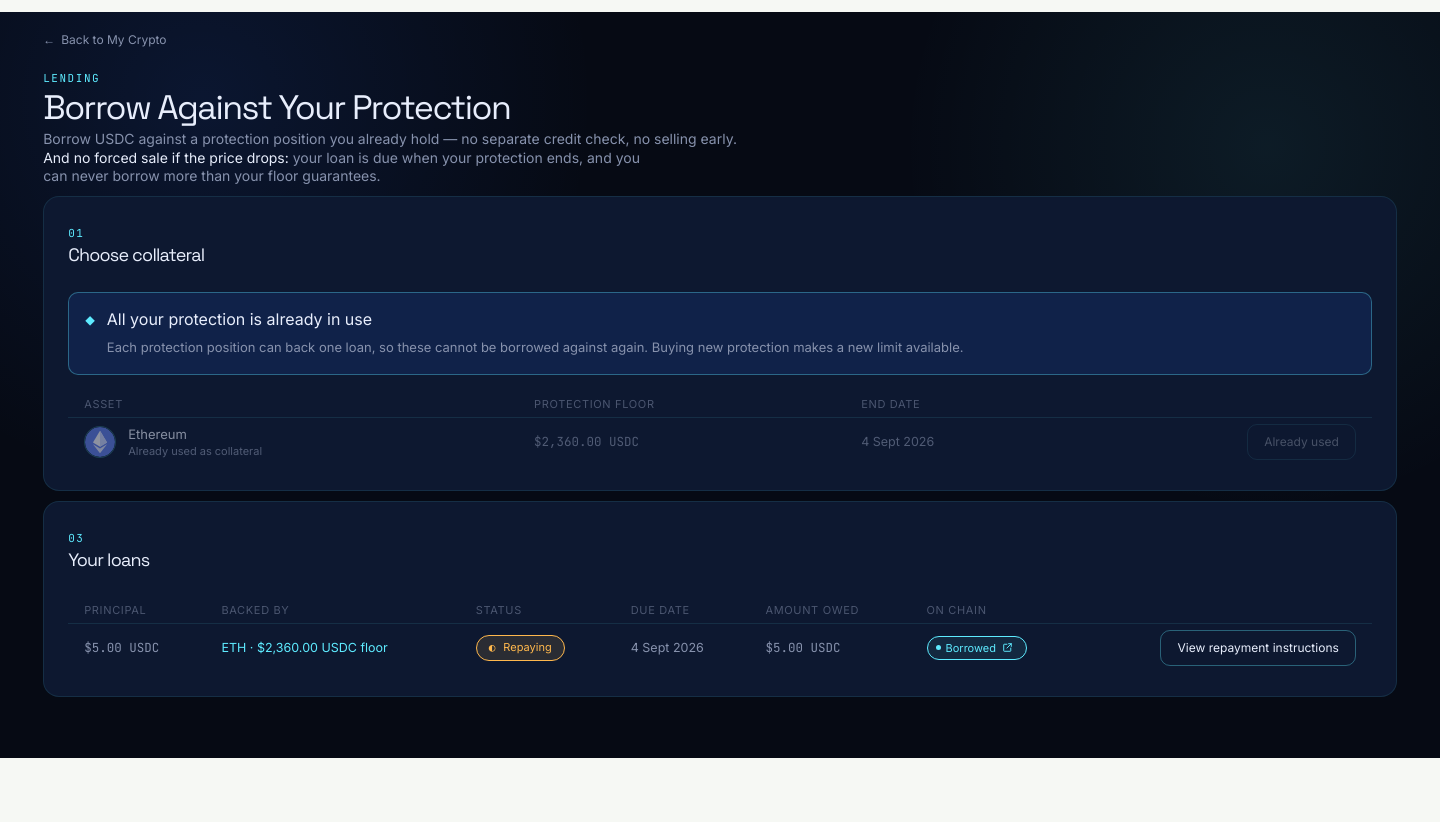
LendingPage › a repaying loan can recover its instruction after the page state is lost
The width and height of the screenshot is (1440, 822).
Expected: the text "Send exactly" is not shown
Click the button "View repayment instructions": {"x": 1258, "y": 648} [1160, 630, 1356, 666]
(page scrolled)
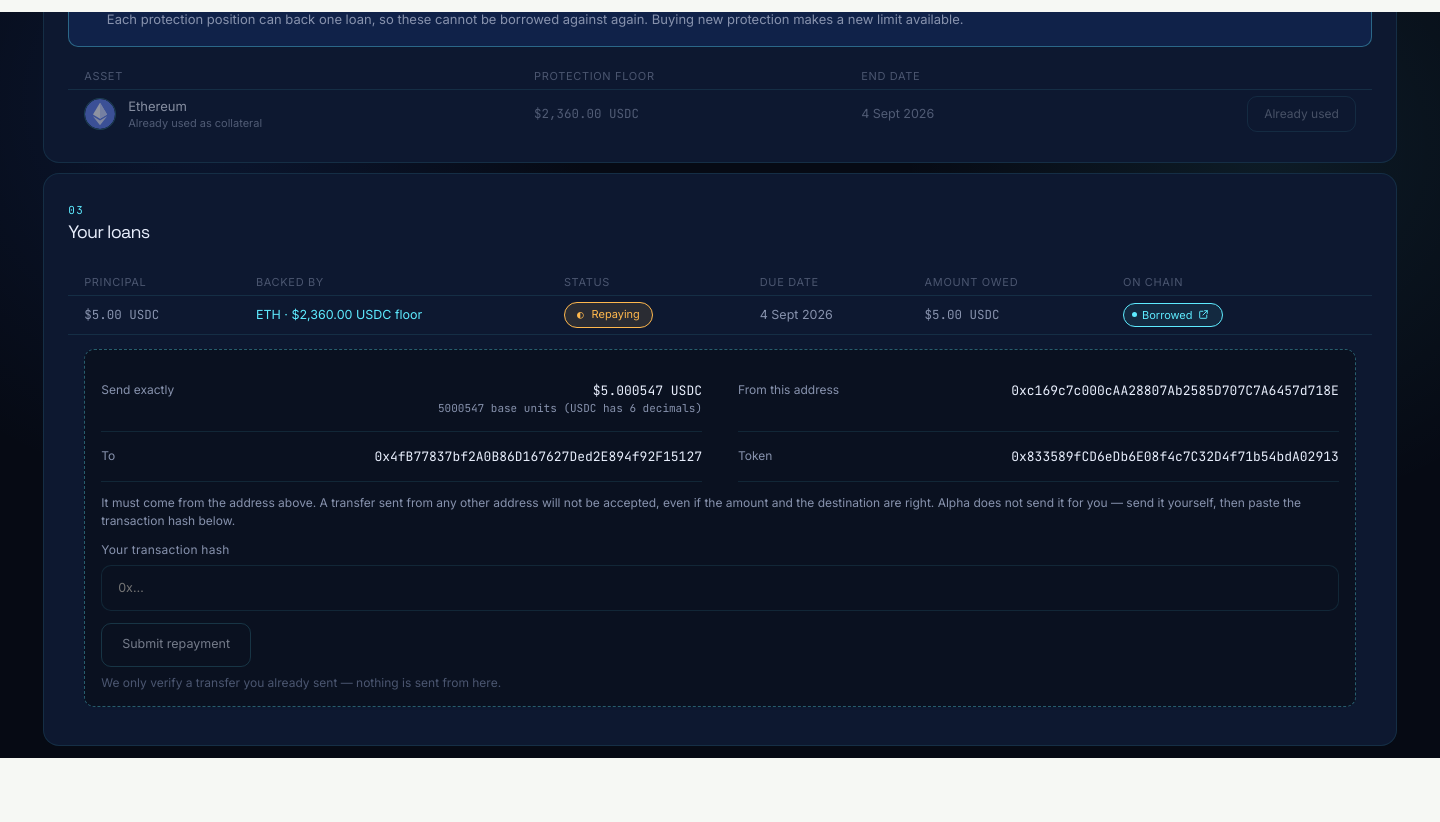
Now the text "Send exactly" is shown, box [101, 382, 174, 396]
Now the field labelled "Your transaction hash" is shown, box [101, 564, 1339, 610]
Now the button "Submit repayment" is shown, box [101, 622, 251, 666]
